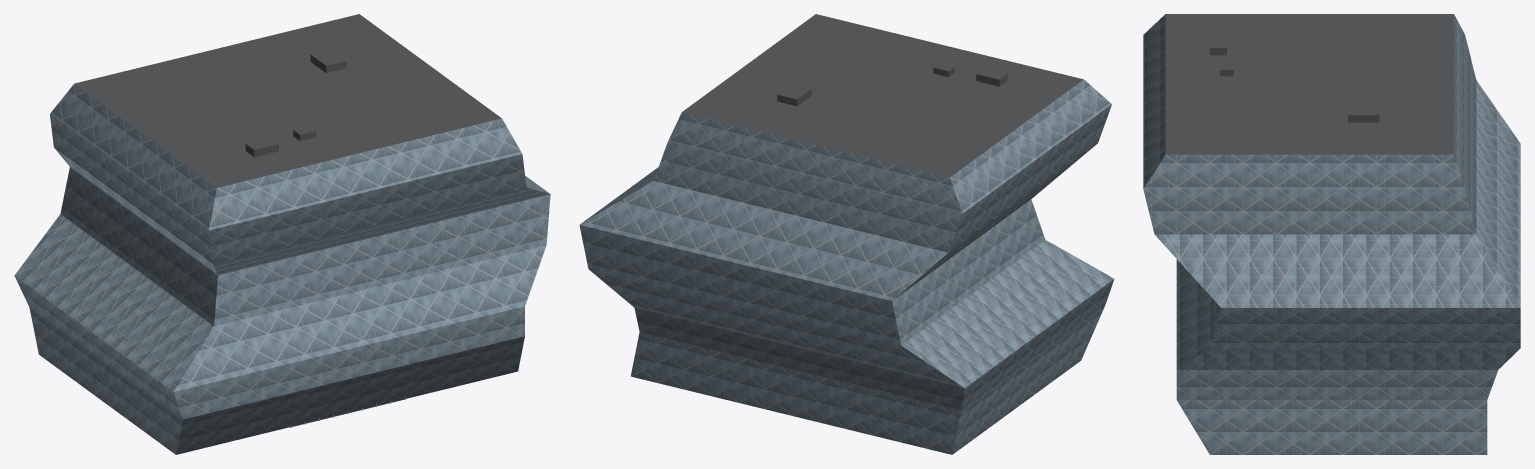
The model's file is central_library.glb.
3 renders of one model, left to right at view 1: azimuth 30°, elevation 25°; view 2: azimuth 150°, elevation 25°; view 3: azimuth 270°, elevation 25°, orthographic. The views are drawn at different scales.
Parts seen in each view (by area): view 1: central_library; view 2: central_library; view 3: central_library.
Part boxes in pixels (<box>): central_library: <box>14,14,550,454</box>; central_library: <box>579,14,1114,454</box>; central_library: <box>1143,14,1520,454</box>.
Bounding box in the file's own units: 84 × 57.49 × 68.
2 materials, 2 textured.
